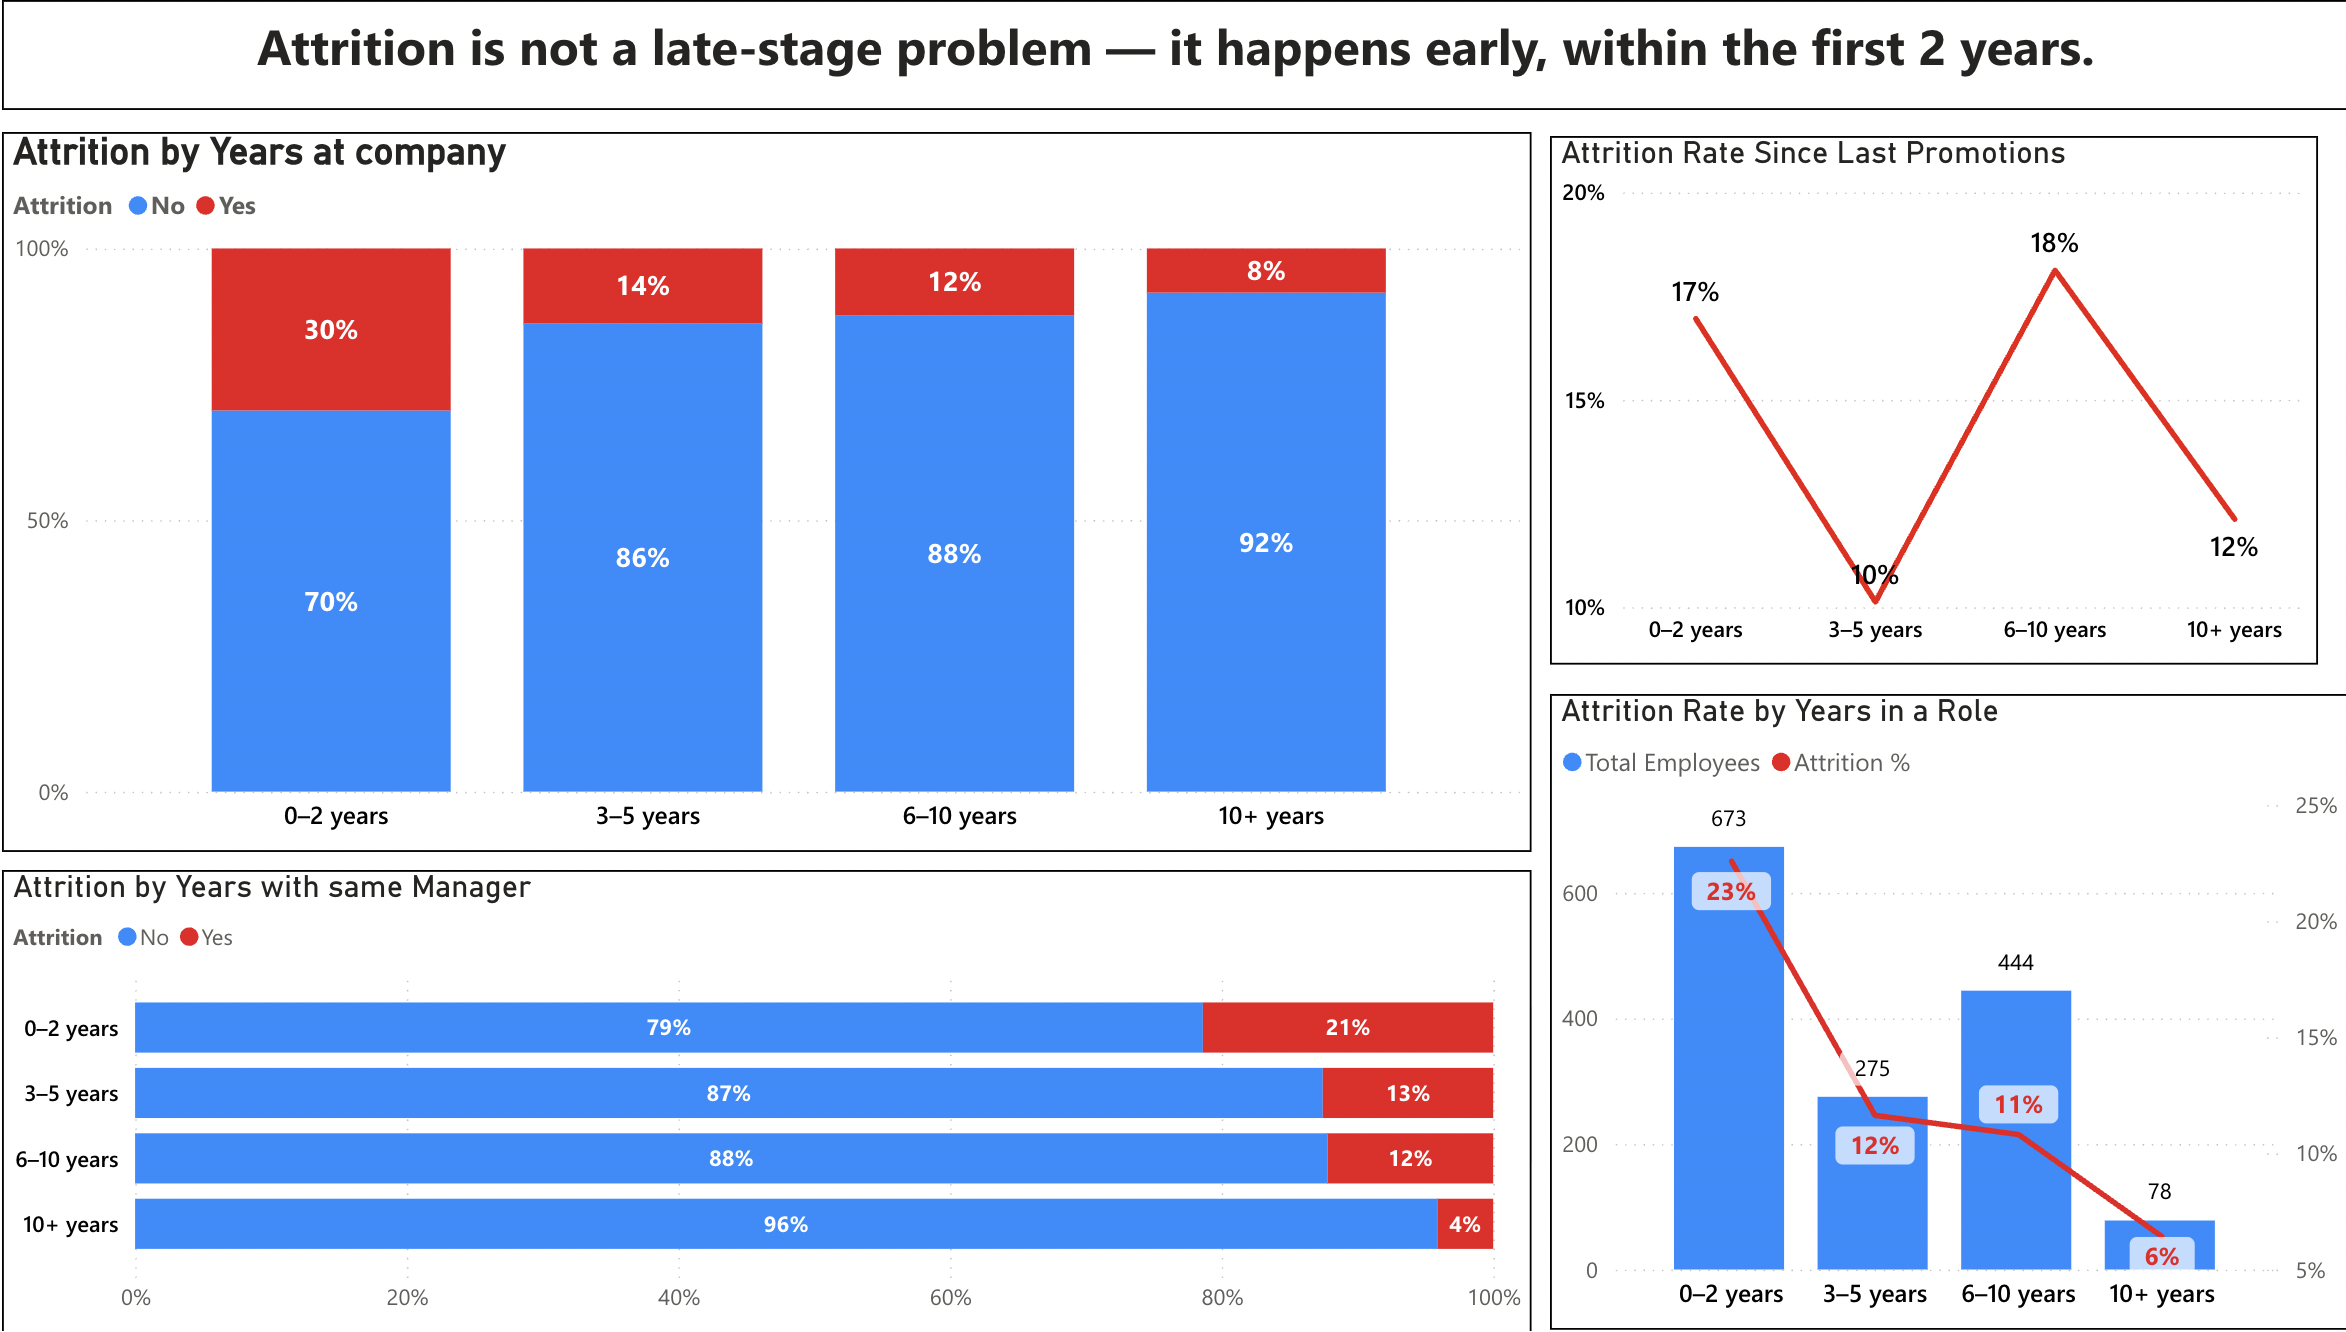

Layout of this report page (visuals, bound fields, positions):
{"tool":"powerbi","page":{"name":"Company Factors","canvas":[1280,720],"ordinal":1},"visuals":[{"type":"hundredPercentStackedColumnChart","title":"Attrition by Years at company ","fields":{"Category":["Attrition Insight.Years Group"],"Series":["Attrition Insight.Attrition"],"Y":["CountNonNull(Attrition Insight.Attrition)"]},"box":[10,71.1,827.7,389.7],"z":0},{"type":"hundredPercentStackedBarChart","title":" Attrition by Years with same Manager","fields":{"Category":["Attrition Insight.Years Manager Group"],"Series":["Attrition Insight.Attrition"],"Y":["CountNonNull(Attrition Insight.Attrition)"]},"box":[10,470.8,827.7,250.3],"z":1},{"type":"lineClusteredColumnComboChart","title":"Attrition Rate by Years in a Role","fields":{"Category":["Attrition Insight.Years Role Group"],"Y":["CountNonNull(Attrition Insight.Attrition)"],"Y2":["Attrition Insight.Attrition %"]},"box":[847.6,375.5,432.4,344.2],"z":2},{"type":"lineChart","title":"Attrition Rate Since Last Promotions","fields":{"Category":["Attrition Insight.Years Since Promotion Group"],"Y":["Attrition Insight.Attrition %"]},"box":[847.6,74,415.3,285.9],"z":3},{"type":"textbox","box":[10,0,1270,59.7],"z":4}]}

Visuals, with their boxes in screenshot pixels (x1, y1, x2, y2), scaled from the page's 1280x720 canvas onto the 2346x1332 screenshot:
"Attrition by Years at company " hundredPercentStackedColumnChart: pyautogui.locateOnScreen(18, 132, 1535, 852)
" Attrition by Years with same Manager" hundredPercentStackedBarChart: pyautogui.locateOnScreen(18, 871, 1535, 1331)
"Attrition Rate by Years in a Role" lineClusteredColumnComboChart: pyautogui.locateOnScreen(1553, 695, 2345, 1331)
"Attrition Rate Since Last Promotions" lineChart: pyautogui.locateOnScreen(1553, 137, 2315, 666)
textbox: pyautogui.locateOnScreen(18, 0, 2345, 110)
